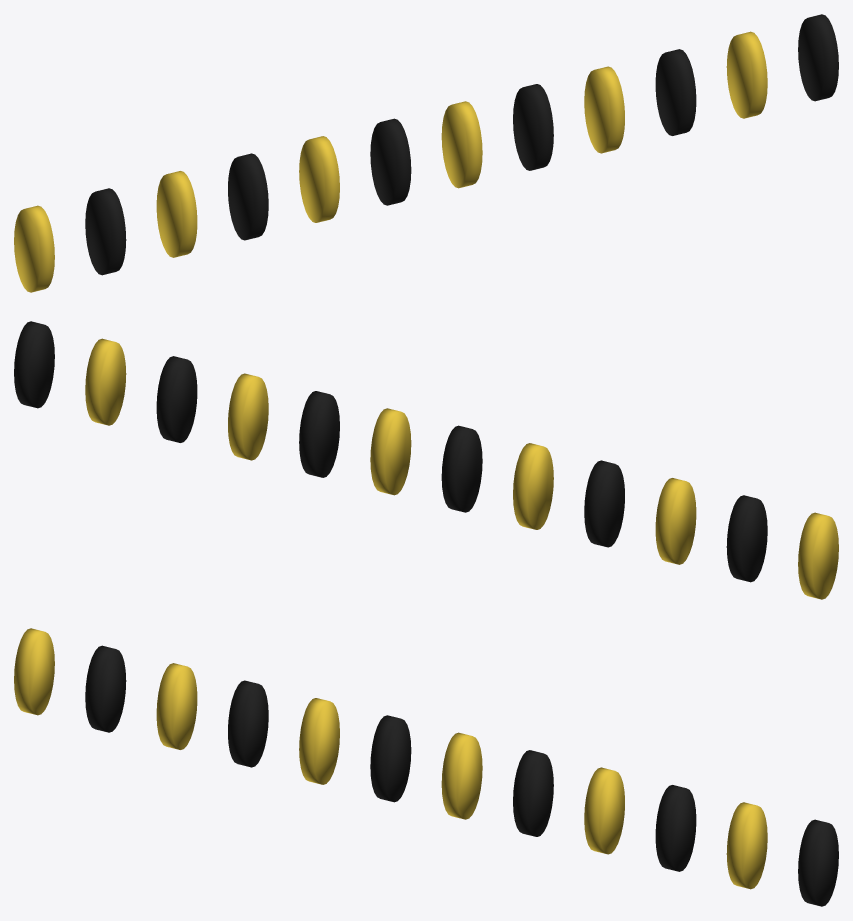
Rendered from speed_bump.glb.
3 views of the same model, one above another, from view 1: azimuth 30°, elevation 25°; view 2: azimuth 150°, elevation 25°; view 3: azimuth 330°, elevation 25° (orthographic).
Parts seen in each view (by area): view 1: speed_bump; view 2: speed_bump; view 3: speed_bump.
Boxes of the visible parts, x1,y1,x2,y2 form: speed_bump: (14, 14, 838, 292); speed_bump: (14, 321, 838, 599); speed_bump: (14, 628, 838, 906).
Size of the model in its own units: 6.16 by 0.6 by 0.36.
